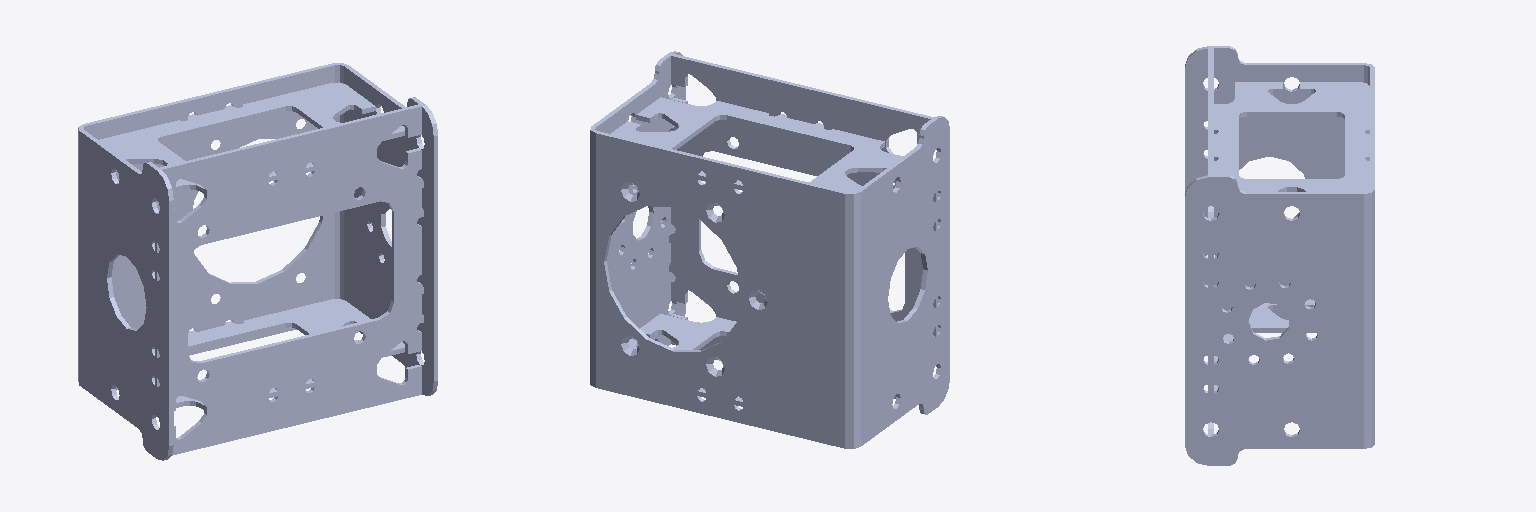
The model's file is Hals-Yaw.obj.
The picture shows the model from 3 angles: view 1: azimuth 30°, elevation 25°; view 2: azimuth 150°, elevation 25°; view 3: azimuth 270°, elevation 25°; orthographic projection.
Visible parts, largest first — view 1: Stamm|Minimal-Hals-Yaw_(Standard)|Hals_Yaw-1|Hals_YAW-PITCH-Verb, Stamm|Minimal-Hals-Yaw_(Standard)|Hals_Yaw-1|Hals_Grundplatte_YA, Stamm|Minimal-Hals-Yaw_(Standard)|Hals_Yaw-1|Hals_YAW-Versteifun; view 2: Stamm|Minimal-Hals-Yaw_(Standard)|Hals_Yaw-1|Hals_YAW-PITCH-Verb, Stamm|Minimal-Hals-Yaw_(Standard)|Hals_Yaw-1|Hals_Grundplatte_YA, Stamm|Minimal-Hals-Yaw_(Standard)|Hals_Yaw-1|Hals_YAW-Versteifun; view 3: Stamm|Minimal-Hals-Yaw_(Standard)|Hals_Yaw-1|Hals_YAW-PITCH-Verb, Stamm|Minimal-Hals-Yaw_(Standard)|Hals_Yaw-1|Hals_YAW-Versteifun, Stamm|Minimal-Hals-Yaw_(Standard)|Hals_Yaw-1|Hals_Grundplatte_YA.
Boxes of the visible parts, box(x1,y1,x2,y2) form: Stamm|Minimal-Hals-Yaw_(Standard)|Hals_Yaw-1|Hals_YAW-PITCH-Verb: box(78, 63, 437, 460); Stamm|Minimal-Hals-Yaw_(Standard)|Hals_Yaw-1|Hals_Grundplatte_YA: box(155, 104, 423, 455); Stamm|Minimal-Hals-Yaw_(Standard)|Hals_Yaw-1|Hals_YAW-Versteifun: box(99, 82, 404, 409); Stamm|Minimal-Hals-Yaw_(Standard)|Hals_Yaw-1|Hals_YAW-PITCH-Verb: box(590, 51, 949, 448); Stamm|Minimal-Hals-Yaw_(Standard)|Hals_Yaw-1|Hals_Grundplatte_YA: box(669, 54, 937, 350); Stamm|Minimal-Hals-Yaw_(Standard)|Hals_Yaw-1|Hals_YAW-Versteifun: box(611, 97, 902, 406); Stamm|Minimal-Hals-Yaw_(Standard)|Hals_Yaw-1|Hals_YAW-PITCH-Verb: box(1185, 46, 1374, 465); Stamm|Minimal-Hals-Yaw_(Standard)|Hals_Yaw-1|Hals_YAW-Versteifun: box(1214, 82, 1369, 390); Stamm|Minimal-Hals-Yaw_(Standard)|Hals_Yaw-1|Hals_Grundplatte_YA: box(1208, 48, 1213, 434).
Size of the model in its own units: 0.0586 by 0.06 by 0.036.